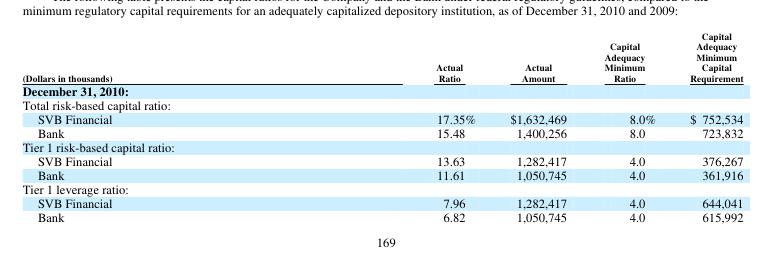table: (21, 28, 742, 224)
table column: (21, 28, 273, 224), (273, 28, 492, 224), (492, 28, 584, 224), (584, 28, 672, 224), (672, 28, 742, 224)
table column header: (21, 28, 742, 83)
table projected row header: (21, 83, 742, 97), (21, 97, 742, 111), (21, 139, 742, 153), (21, 181, 742, 195)
table row: (21, 28, 742, 83), (21, 209, 742, 224), (21, 83, 742, 97), (21, 97, 742, 111), (21, 111, 742, 125), (21, 125, 742, 139), (21, 139, 742, 153), (21, 153, 742, 167), (21, 167, 742, 181), (21, 181, 742, 195), (21, 195, 742, 209)
